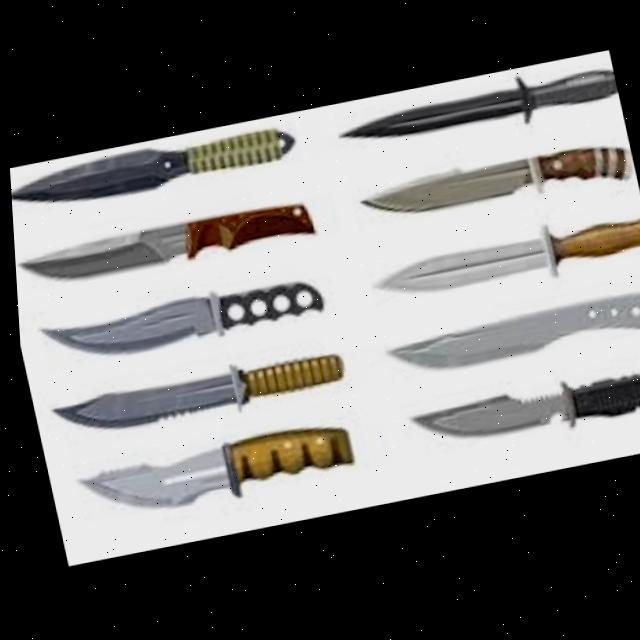Knife: (65, 419, 353, 527), (41, 346, 346, 443), (328, 63, 621, 161), (11, 199, 315, 293), (33, 273, 324, 371), (6, 121, 299, 216), (364, 214, 640, 313), (351, 139, 636, 233), (376, 290, 640, 383), (399, 363, 640, 459)
